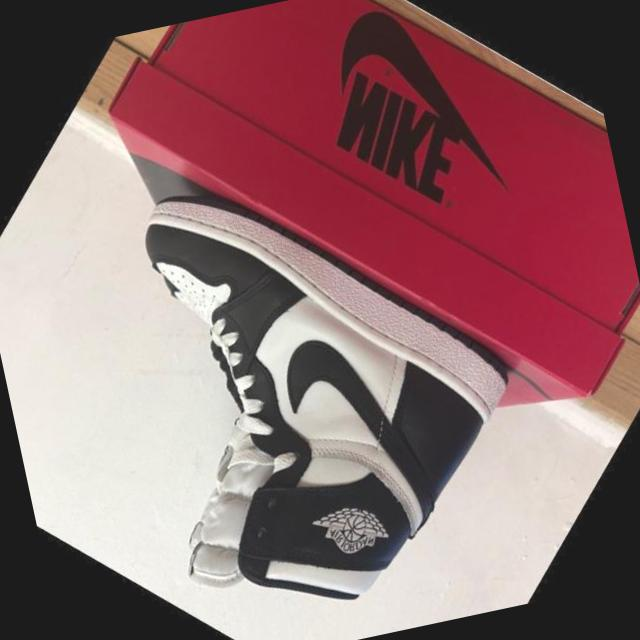nike_original_jordan: (0, 103, 572, 640)
